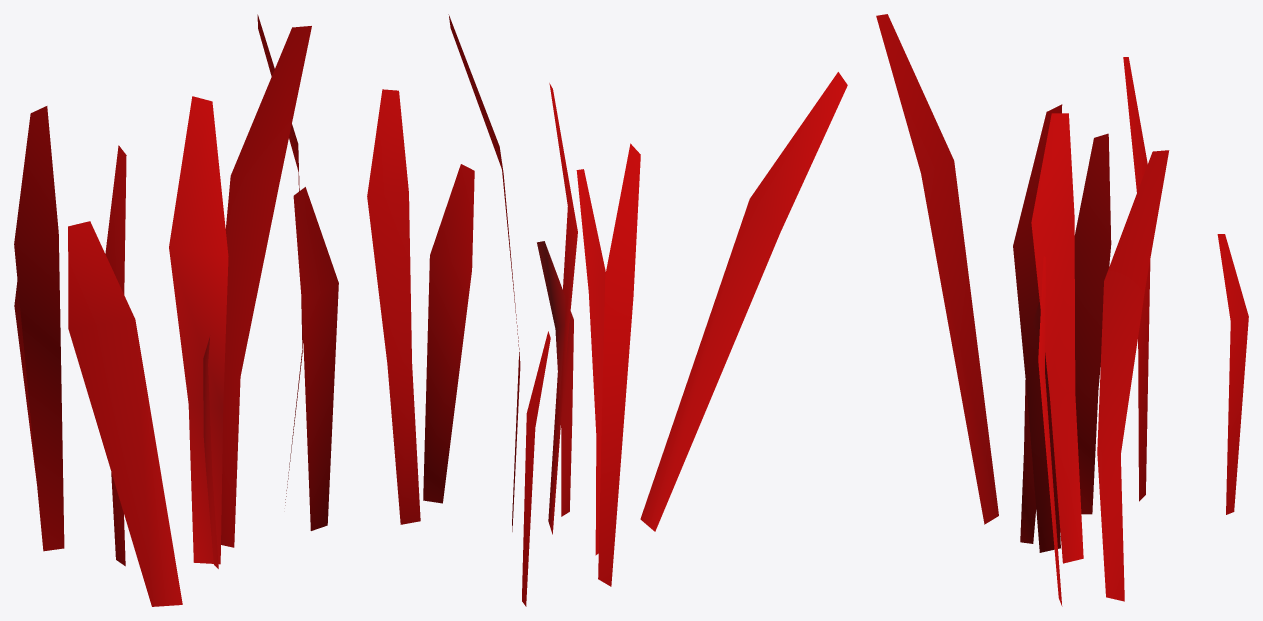
The model's file is SM_OatPlant_1.fbx.
3 renders of one model, left to right at view 1: azimuth 30°, elevation 25°; view 2: azimuth 150°, elevation 25°; view 3: azimuth 270°, elevation 25°, orthographic. The views are drawn at different scales.
Visible parts, largest first — view 1: SM_OatPlant_1; view 2: SM_OatPlant_1; view 3: SM_OatPlant_1.
Part boxes in pixels (<box>): SM_OatPlant_1: <box>14,14,338,606</box>; SM_OatPlant_1: <box>367,14,847,606</box>; SM_OatPlant_1: <box>876,14,1248,606</box>.
Size of the model in its own units: 0.2233 by 0.3003 by 0.2071.
